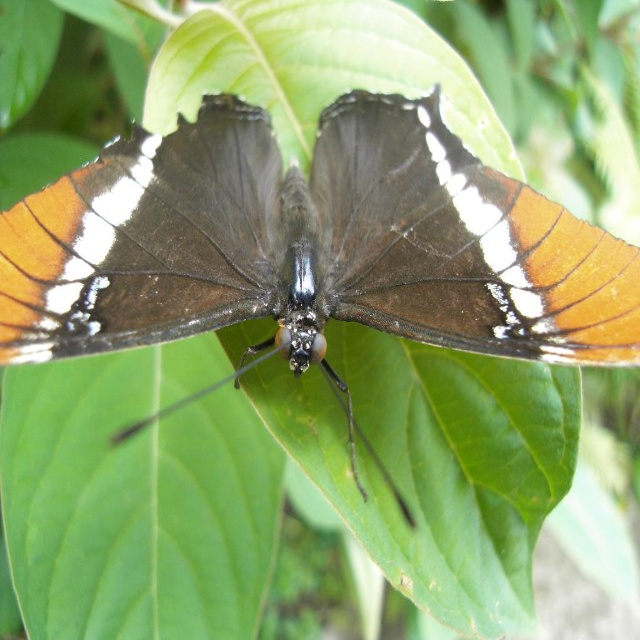Butterfly: (36, 67, 608, 447)
